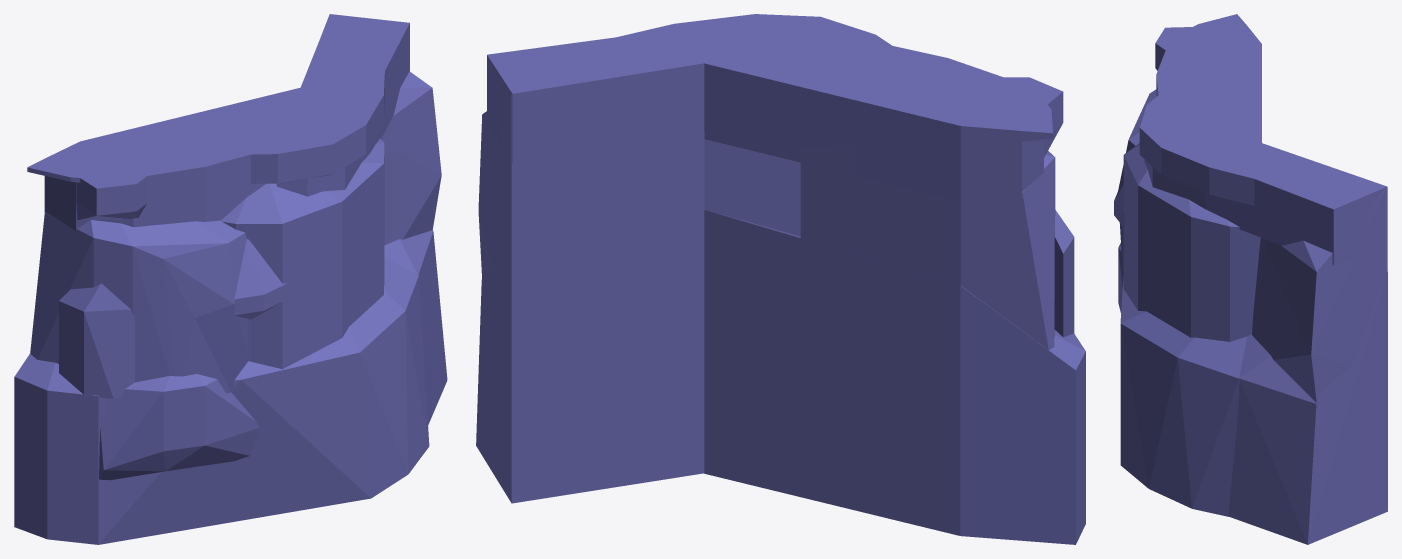
Rendered from Cliff_Corner_04_Collider_01.FBX.
3 views of the same model, side by side, from view 1: azimuth 30°, elevation 25°; view 2: azimuth 150°, elevation 25°; view 3: azimuth 270°, elevation 25° (orthographic). The views are drawn at different scales.
Visible parts, largest first — view 1: COLLIDER6, COLLIDER10, COLLIDER9, COLLIDER2, COLLIDER1, COLLIDER8, COLLIDER5, COLLIDER12, COLLIDER11, COLLIDER7, COLLIDER4, COLLIDER13 (+1 smaller); view 2: COLLIDER6, COLLIDER7, COLLIDER2, COLLIDER12, COLLIDER10, COLLIDER1, COLLIDER5, COLLIDER9, COLLIDER11, COLLIDER4, COLLIDER3; view 3: COLLIDER7, COLLIDER6, COLLIDER9, COLLIDER12, COLLIDER5, COLLIDER1, COLLIDER2, COLLIDER4, COLLIDER10, COLLIDER3, COLLIDER13.
Boxes of the visible parts, box(x1,y1,x2,y2) form: COLLIDER6: box(14, 257, 429, 544); COLLIDER10: box(30, 212, 248, 393); COLLIDER9: box(221, 138, 384, 369); COLLIDER2: box(44, 87, 303, 230); COLLIDER1: box(187, 67, 384, 183); COLLIDER8: box(99, 374, 258, 480); COLLIDER5: box(276, 14, 409, 196); COLLIDER12: box(300, 52, 441, 245); COLLIDER11: box(59, 283, 134, 398); COLLIDER7: box(384, 230, 447, 425); COLLIDER4: box(75, 171, 152, 220); COLLIDER13: box(234, 239, 287, 319); COLLIDER6: box(704, 210, 1085, 544); COLLIDER7: box(476, 201, 705, 503); COLLIDER2: box(704, 25, 1043, 206); COLLIDER12: box(478, 64, 704, 331); COLLIDER10: box(800, 143, 1055, 349); COLLIDER1: box(607, 14, 898, 129); COLLIDER5: box(487, 18, 853, 164); COLLIDER9: box(704, 131, 800, 236); COLLIDER11: box(1054, 210, 1074, 337); COLLIDER4: box(989, 77, 1063, 157); COLLIDER3: box(1022, 102, 1052, 141); COLLIDER7: box(1228, 272, 1387, 544); COLLIDER6: box(1120, 276, 1247, 516); COLLIDER9: box(1123, 143, 1260, 341); COLLIDER12: box(1252, 187, 1387, 402); COLLIDER5: box(1144, 106, 1387, 265); COLLIDER1: box(1139, 92, 1261, 205); COLLIDER2: box(1156, 24, 1261, 143); COLLIDER4: box(1155, 27, 1200, 70); COLLIDER10: box(1118, 89, 1156, 275); COLLIDER3: box(1189, 14, 1245, 28); COLLIDER13: box(1114, 182, 1124, 227).
Bounding box in the file's own units: 938 × 667 × 508.
